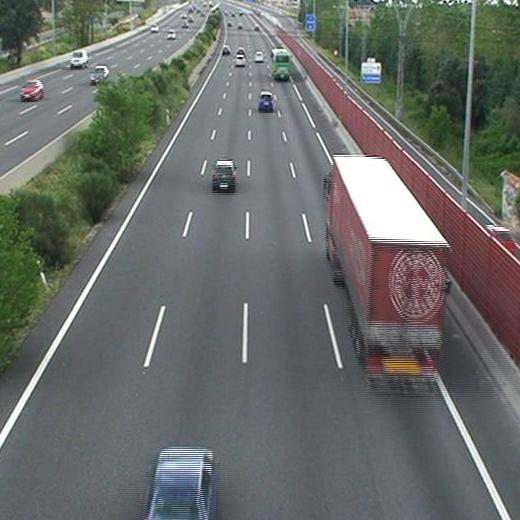bus: (273, 50, 290, 77)
car: (144, 448, 216, 519), (212, 161, 237, 189), (258, 92, 272, 109), (234, 55, 246, 66), (255, 51, 265, 62), (221, 45, 230, 54), (237, 48, 245, 55)
truck: (324, 155, 446, 390)
